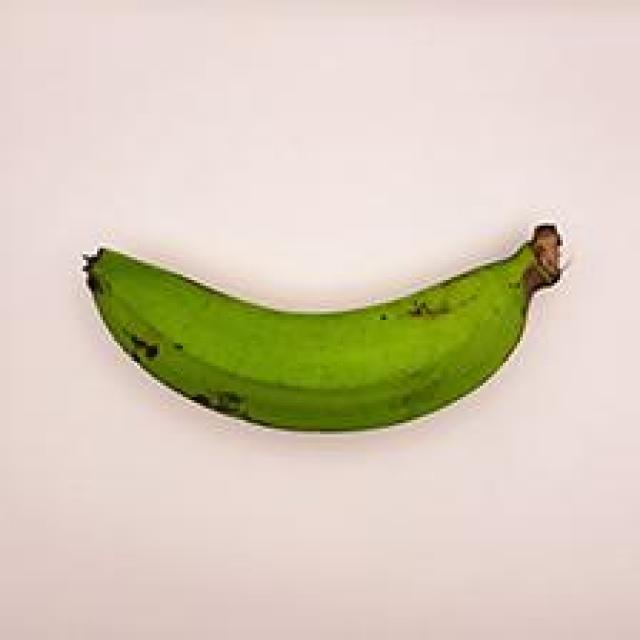Raw: (61, 204, 582, 444)
